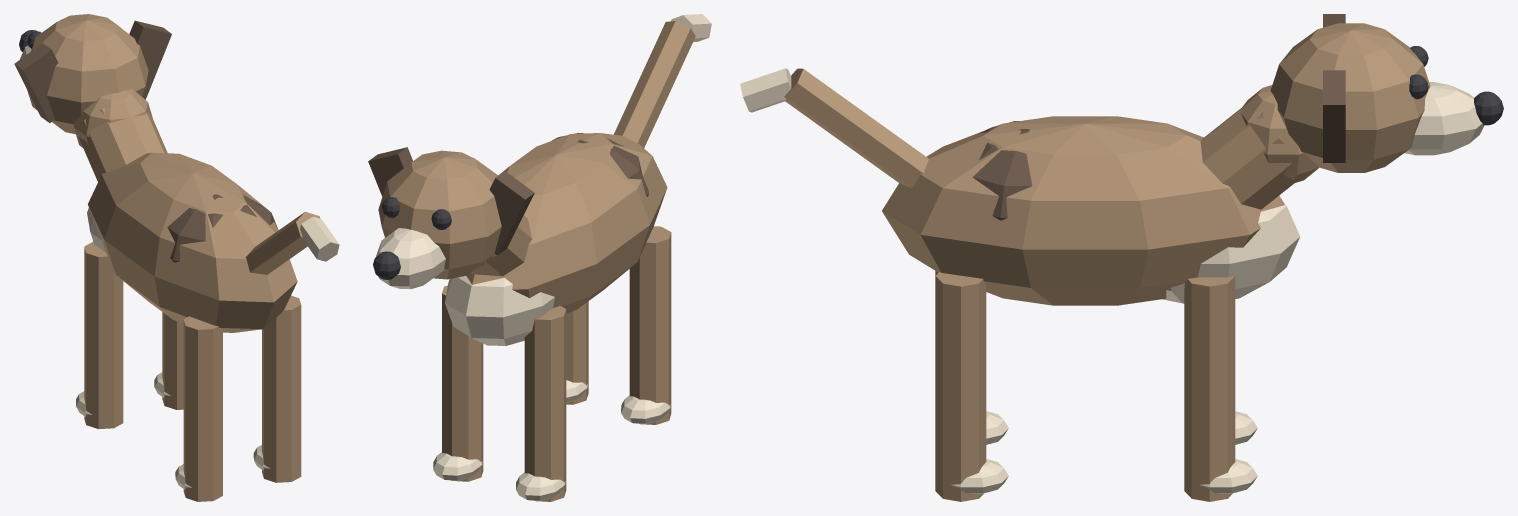
File: dog.glb
3 views of the same model, side by side, from view 1: azimuth 30°, elevation 25°; view 2: azimuth 150°, elevation 25°; view 3: azimuth 270°, elevation 25° (orthographic). The views are drawn at different scales.
Parts seen in each view (by area): view 1: DogBody, DogHead, LegBL, LegFL, LegBR, DogTail, LegFR; view 2: DogBody, DogHead, LegFL, LegBL, LegFR, DogTail, LegBR; view 3: DogBody, DogHead, LegBR, LegFR, DogTail.
Boxes of the visible parts, <box> form: DogBody: <box>74,89,297,332</box>; DogHead: <box>14,14,171,134</box>; LegBL: <box>175,316,222,501</box>; LegFL: <box>76,242,123,429</box>; LegBR: <box>253,295,301,482</box>; DogTail: <box>245,211,339,274</box>; LegFR: <box>154,312,183,409</box>; DogBody: <box>445,133,667,345</box>; DogHead: <box>368,147,534,289</box>; LegFL: <box>516,306,566,501</box>; LegBL: <box>621,226,671,424</box>; LegFR: <box>433,285,483,481</box>; DogTail: <box>614,14,711,147</box>; LegBR: <box>566,301,588,404</box>; DogBody: <box>882,85,1319,305</box>; DogHead: <box>1270,14,1503,172</box>; LegBR: <box>935,272,1008,501</box>; LegFR: <box>1184,276,1257,501</box>; DogTail: <box>740,68,928,187</box>.
Bounding box in the file's own units: 0.3801 × 0.853 × 1.35.
